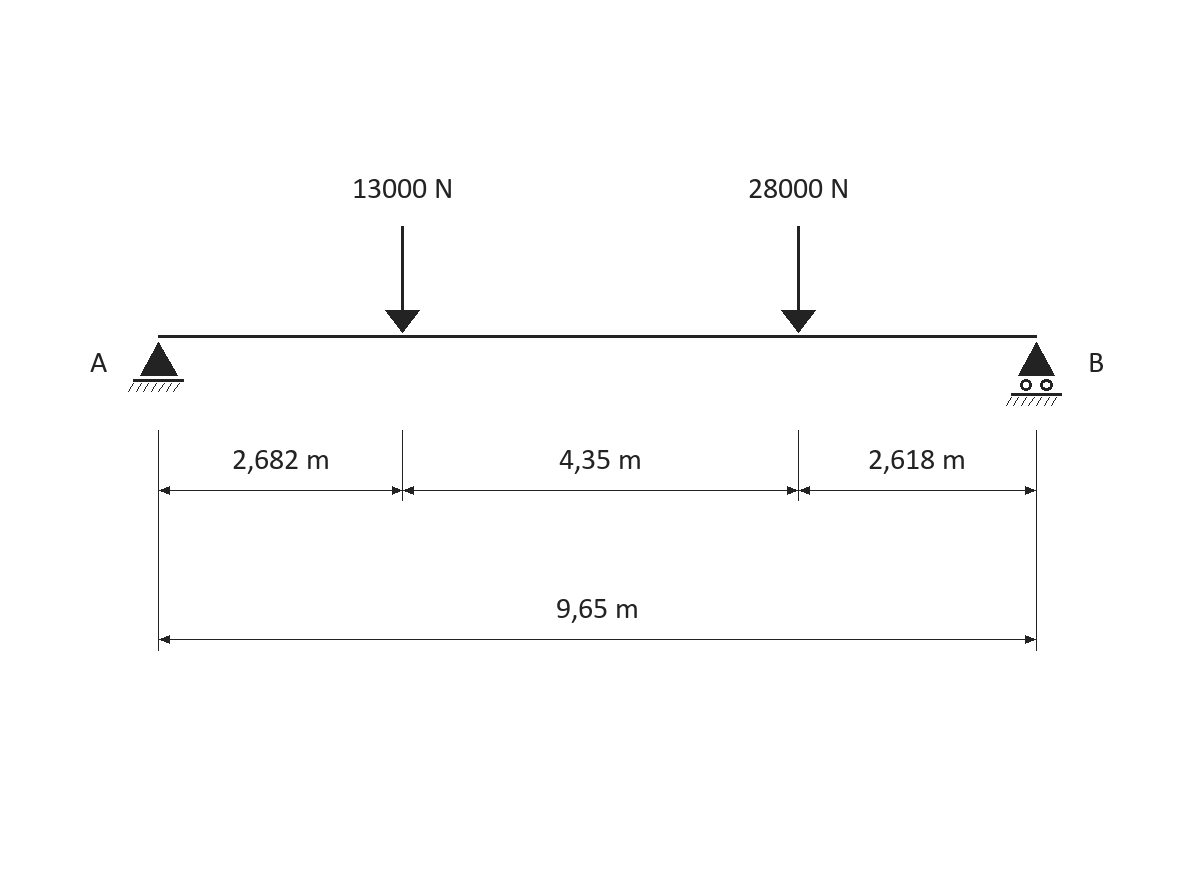pin_support: (128, 342, 184, 392)
point_load: (385, 226, 420, 333), (781, 226, 816, 333)
roller_support: (1006, 342, 1062, 406)
